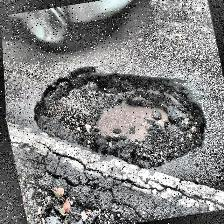pothole: (23, 48, 214, 187)
